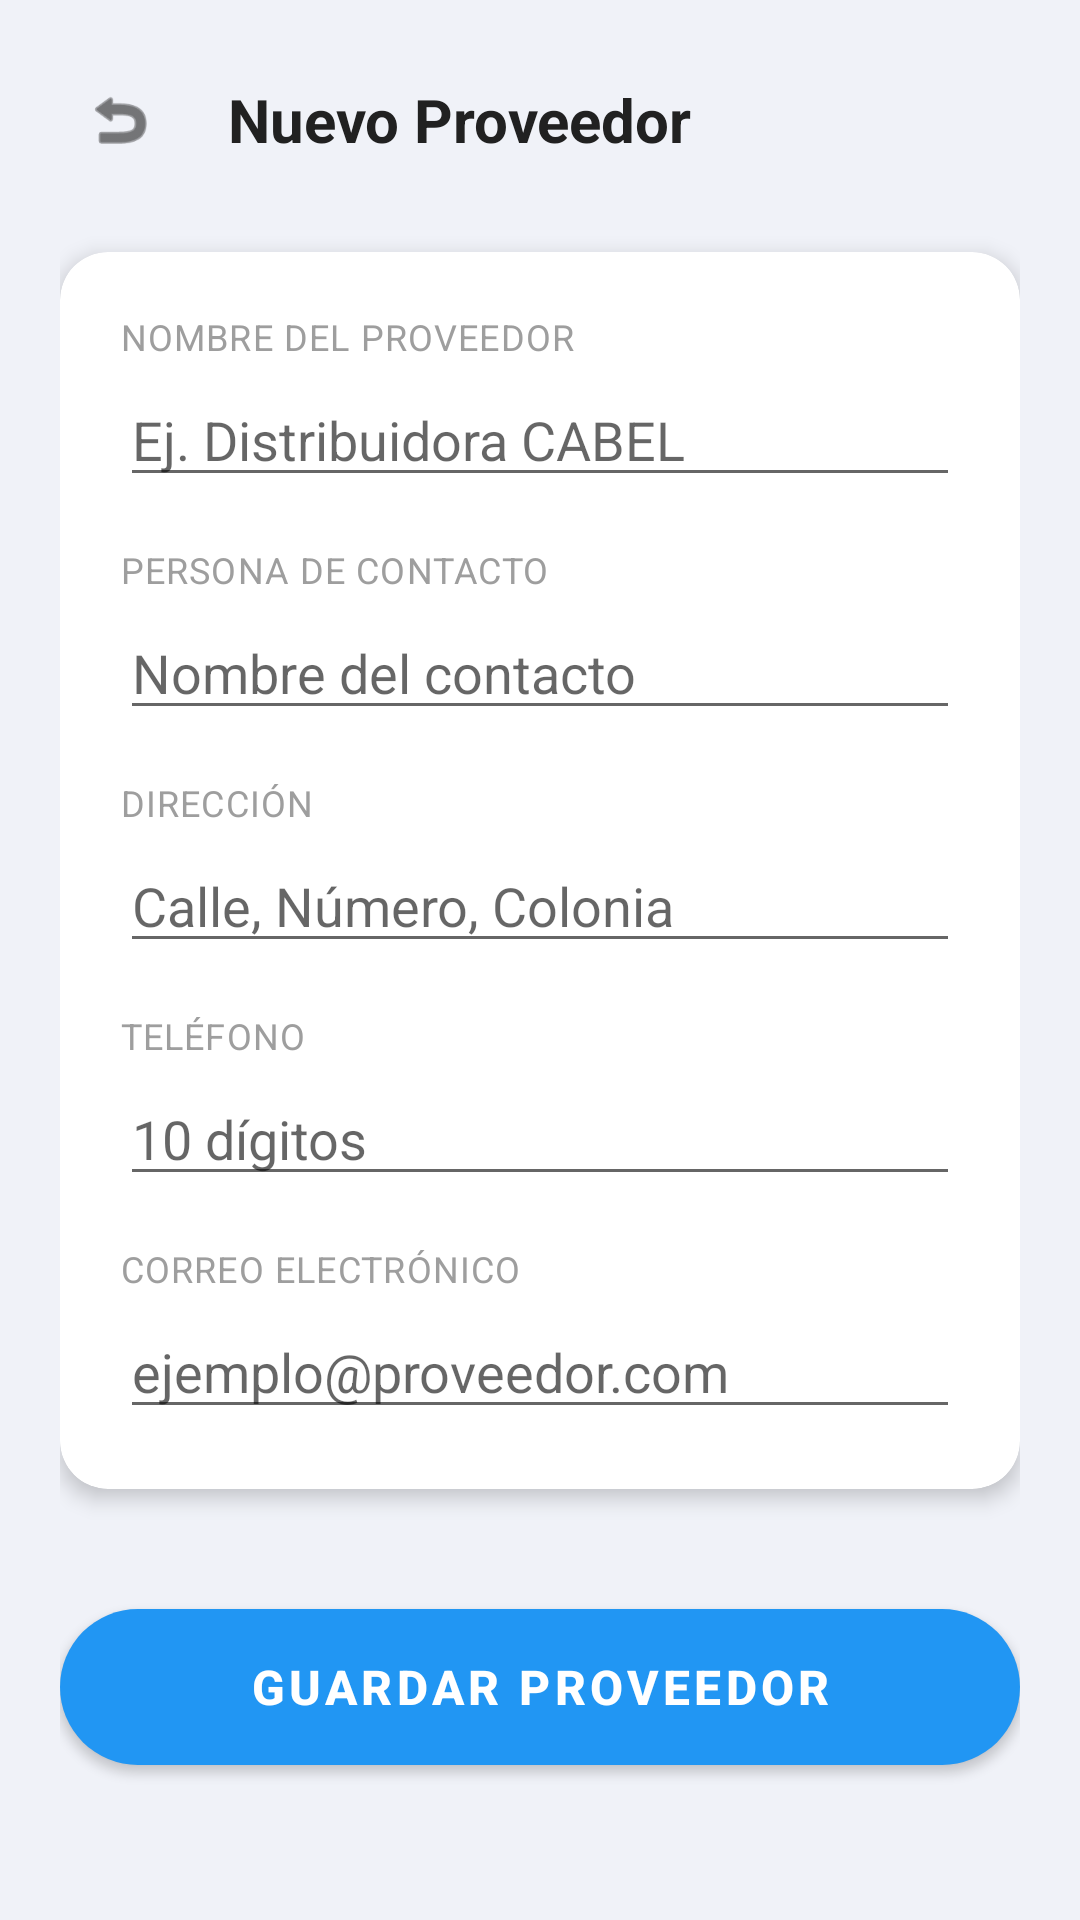

Where to tap for icons on this 1080px×1920px app screen, as (x,y):
revert: (121,120)
